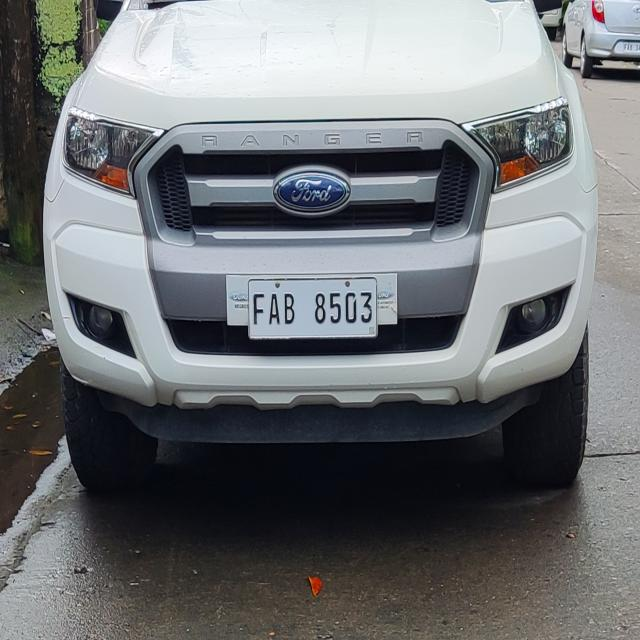plate: (246, 275, 379, 341)
